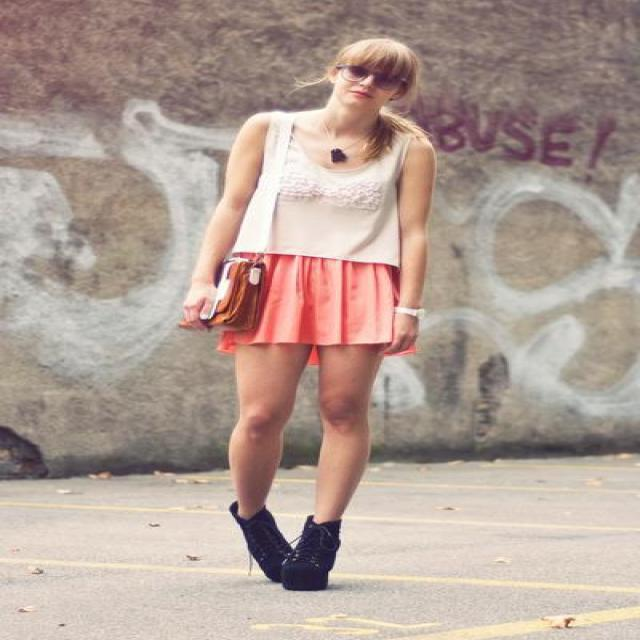bag: (179, 269, 269, 335)
shirt: (232, 111, 419, 268)
shoe: (230, 502, 340, 590)
skirt: (222, 243, 424, 354)
